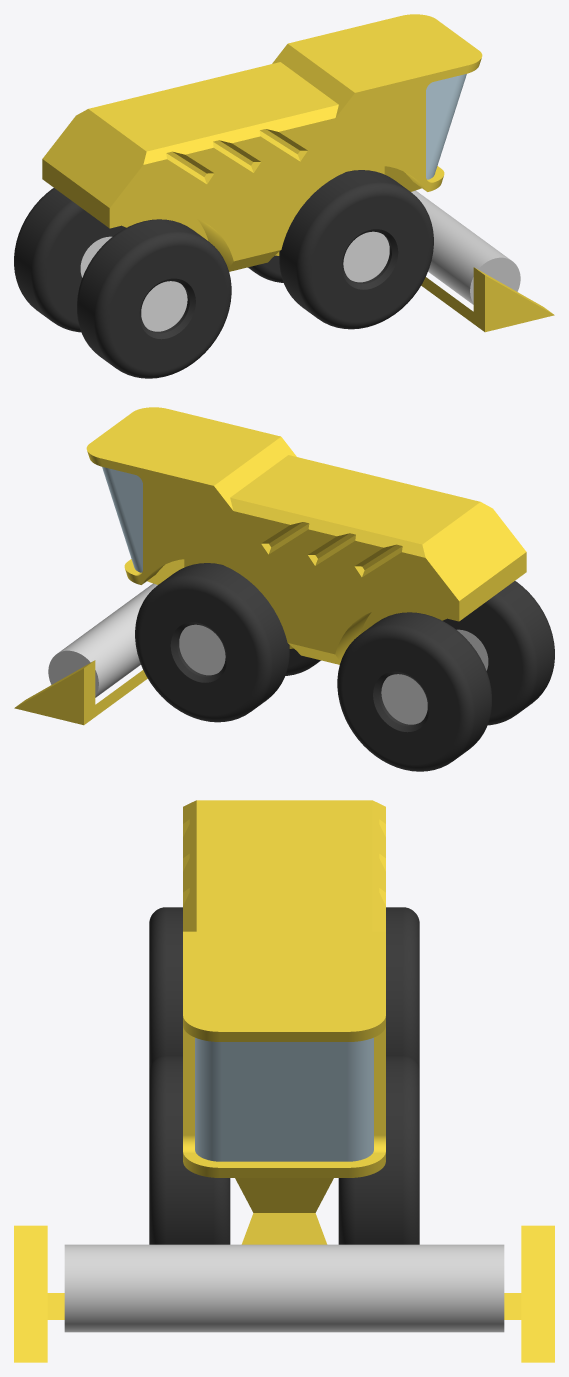
Rendered from combine.glb.
The picture shows the model from 3 angles, top to bottom: view 1: azimuth 30°, elevation 25°; view 2: azimuth 150°, elevation 25°; view 3: azimuth 270°, elevation 25°; orthographic projection. The views are drawn at different scales.
Visible parts, largest first — view 1: Body, Wheel.003, Wheel.002, Wheel.001, Slicey Bits, Windscreen, Part 10, Part 11, Wheel; view 2: Body, Wheel.001, Wheel, Wheel.003, Slicey Bits, Windscreen, Part 8, Part 9, Wheel.002; view 3: Body, Slicey Bits, Windscreen, Wheel, Wheel.002, Wheel.001, Wheel.003.
Boxes of the visible parts, x1=… form: Body: x1=42, y1=14, x2=554, y2=332; Wheel.003: x1=77, y1=219, x2=231, y2=378; Wheel.002: x1=279, y1=170, x2=433, y2=329; Wheel.001: x1=14, y1=188, x2=126, y2=332; Slicey Bits: x1=411, y1=190, x2=520, y2=304; Windscreen: x1=426, y1=74, x2=466, y2=179; Part 10: x1=343, y1=231, x2=389, y2=282; Part 11: x1=141, y1=281, x2=187, y2=331; Wheel: x1=248, y1=255, x2=283, y2=282; Body: x1=14, y1=407, x2=526, y2=725; Wheel.001: x1=337, y1=612, x2=491, y2=771; Wheel: x1=135, y1=563, x2=289, y2=722; Wheel.003: x1=442, y1=581, x2=554, y2=725; Slicey Bits: x1=48, y1=583, x2=157, y2=697; Windscreen: x1=102, y1=467, x2=142, y2=572; Part 8: x1=179, y1=624, x2=225, y2=675; Part 9: x1=381, y1=674, x2=427, y2=724; Wheel.002: x1=285, y1=648, x2=320, y2=675; Body: x1=14, y1=800, x2=554, y2=1362; Slicey Bits: x1=64, y1=1244, x2=504, y2=1332; Windscreen: x1=195, y1=1037, x2=373, y2=1161; Wheel: x1=338, y1=1055, x2=419, y2=1244; Wheel.002: x1=149, y1=1055, x2=230, y2=1244; Wheel.001: x1=386, y1=907, x2=419, y2=1069; Wheel.003: x1=149, y1=907, x2=182, y2=1069.
Size of the model in its own units: 5.8 by 3.11 by 4.4.
